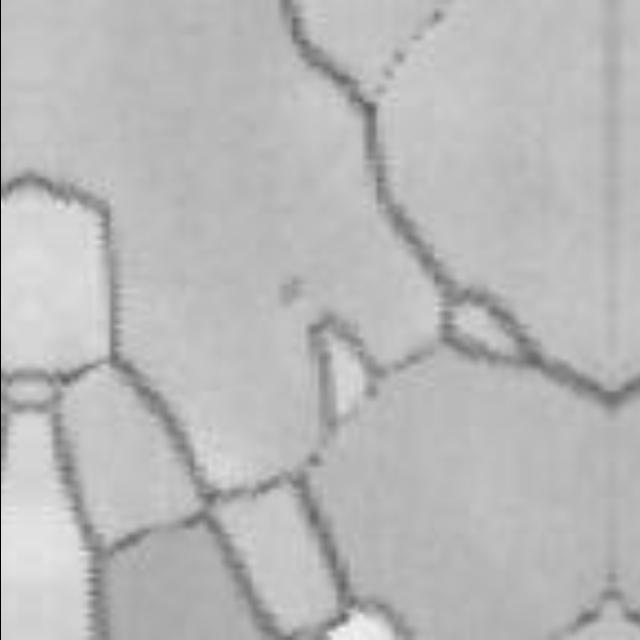good_void: (279, 269, 306, 311)
